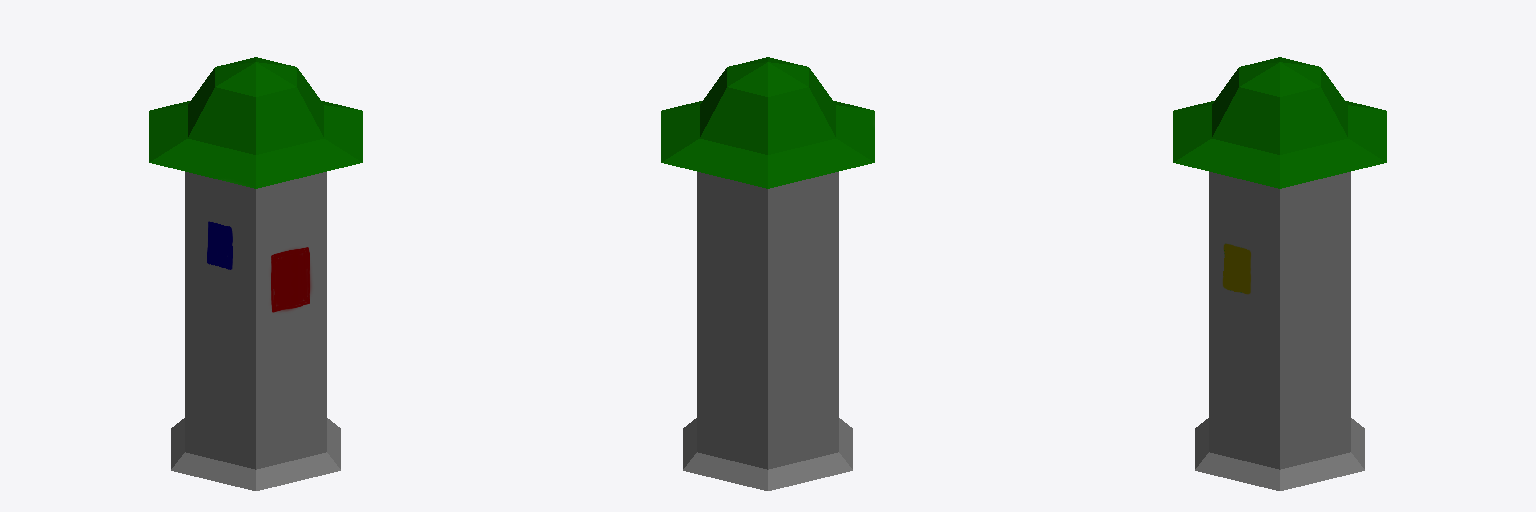
3 views of the same model, side by side, from view 1: azimuth 30°, elevation 25°; view 2: azimuth 150°, elevation 25°; view 3: azimuth 270°, elevation 25° (orthographic).
Parts seen in each view (by area): view 1: Cylinder; view 2: Cylinder; view 3: Cylinder.
Boxes of the visible parts, <box> form: Cylinder: <box>149,57,362,490</box>; Cylinder: <box>661,57,874,490</box>; Cylinder: <box>1173,57,1386,490</box>.
Bounding box in the file's own units: 1.5 × 2.6 × 1.3.
1 materials, 1 textured.